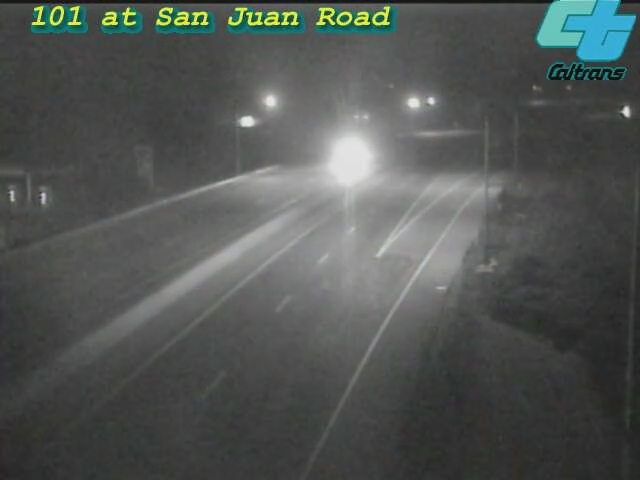vehicle: (325, 133, 375, 183), (600, 87, 640, 137)
